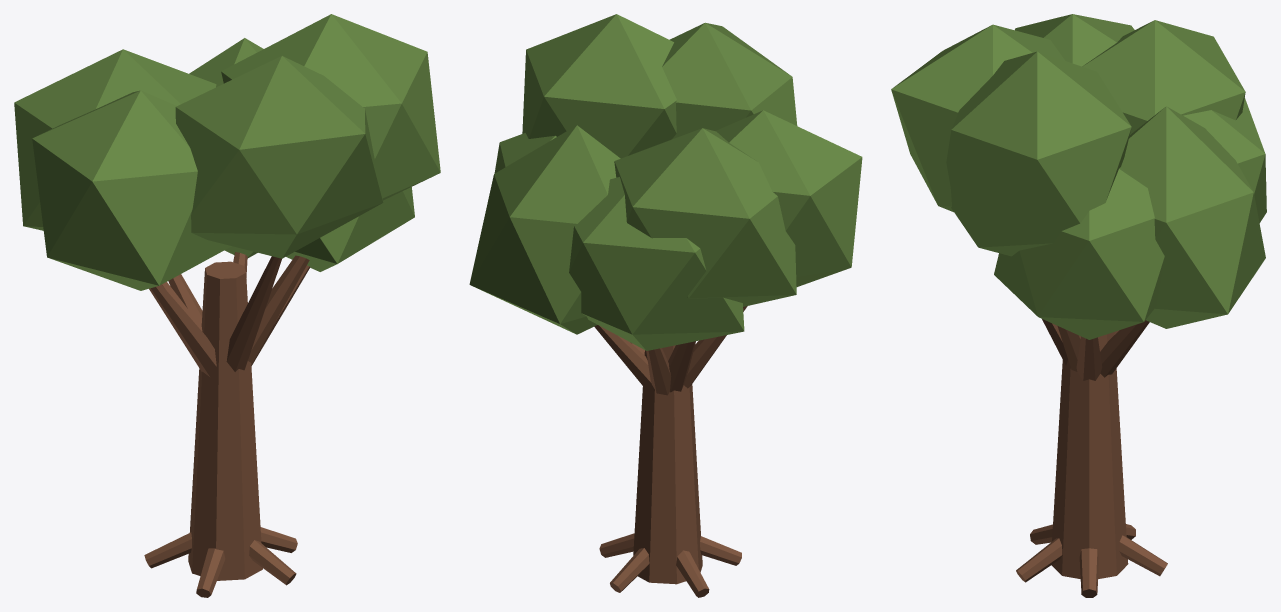
The model's file is tree_large_a.glb.
The picture shows the model from 3 angles, left to right: view 1: azimuth 30°, elevation 25°; view 2: azimuth 150°, elevation 25°; view 3: azimuth 270°, elevation 25°; orthographic projection. The views are drawn at different scales.
Parts seen in each view (by area): view 1: tree_large_a; view 2: tree_large_a; view 3: tree_large_a.
Boxes of the visible parts, box(x1,y1,x2,y2) form: tree_large_a: box(14, 14, 440, 597); tree_large_a: box(469, 14, 862, 597); tree_large_a: box(891, 14, 1266, 597).
Bounding box in the file's own units: 7.6 × 11 × 6.76.
